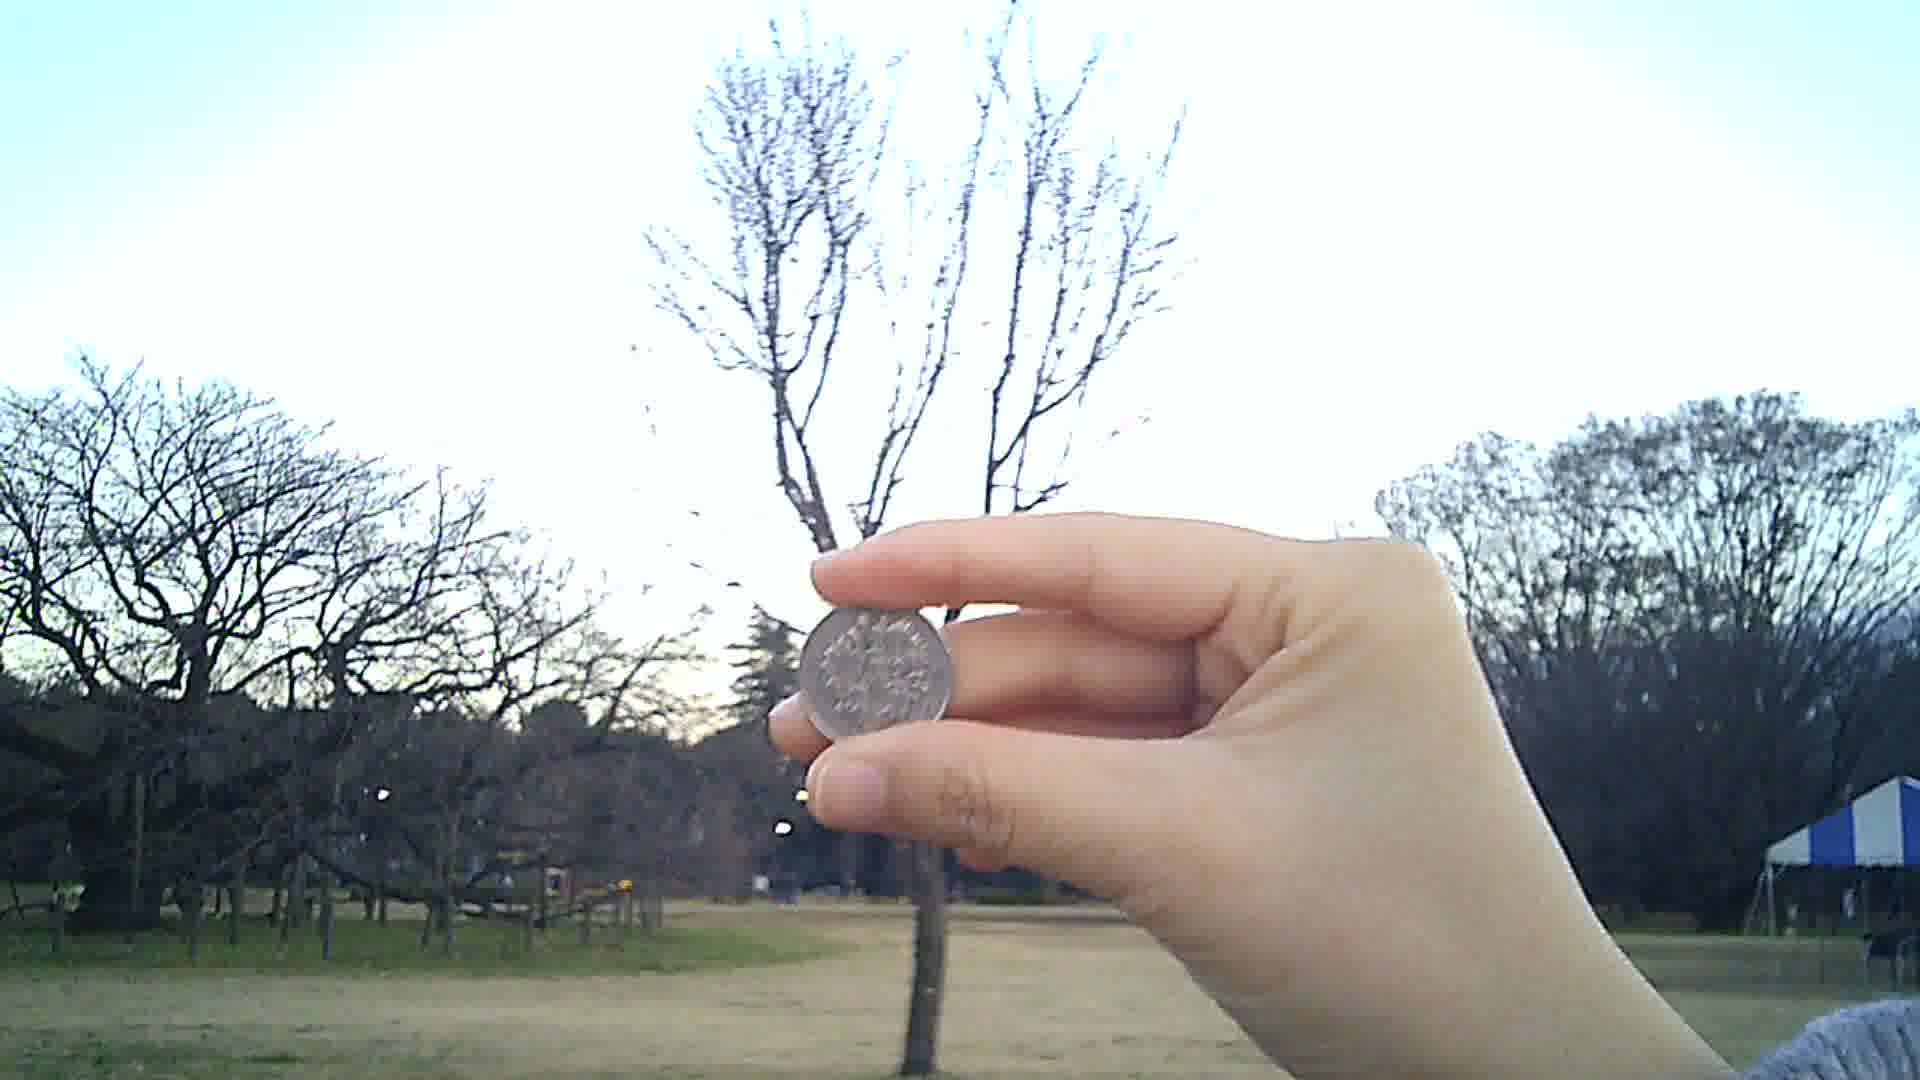100 Yen: (798, 604, 951, 754)
